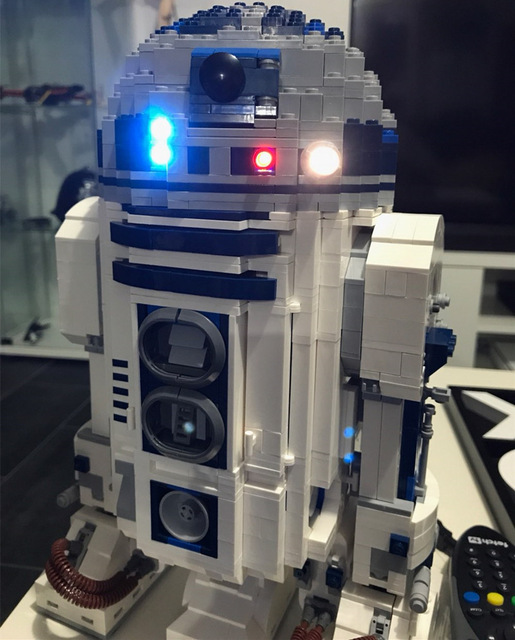r2d2: (55, 6, 435, 638)
